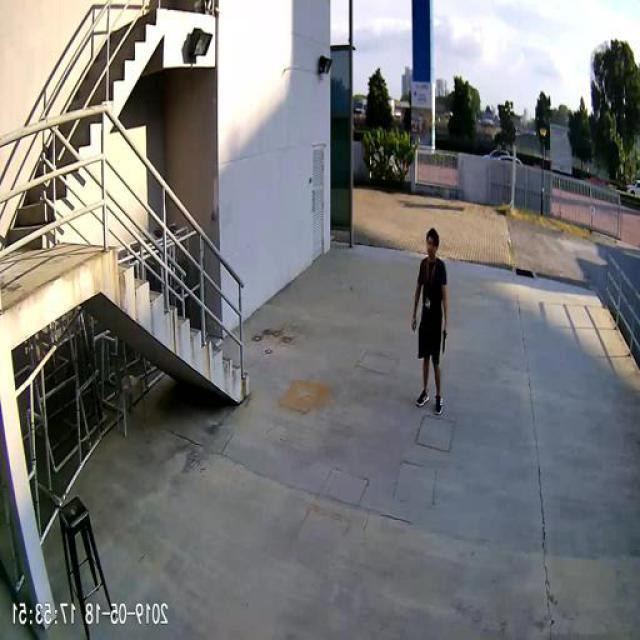Gun: (444, 328, 448, 352)
